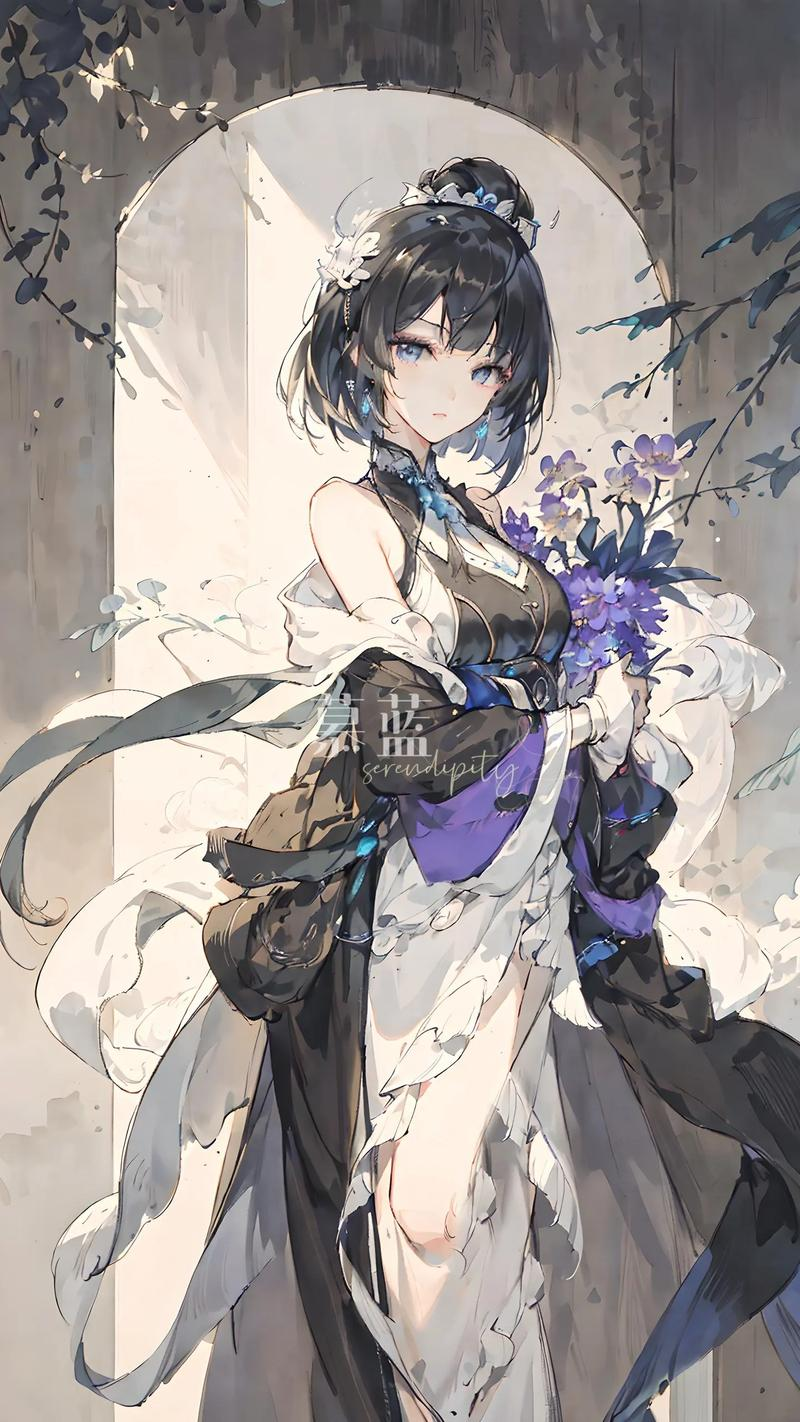夜兰: (205, 156, 654, 1422)
